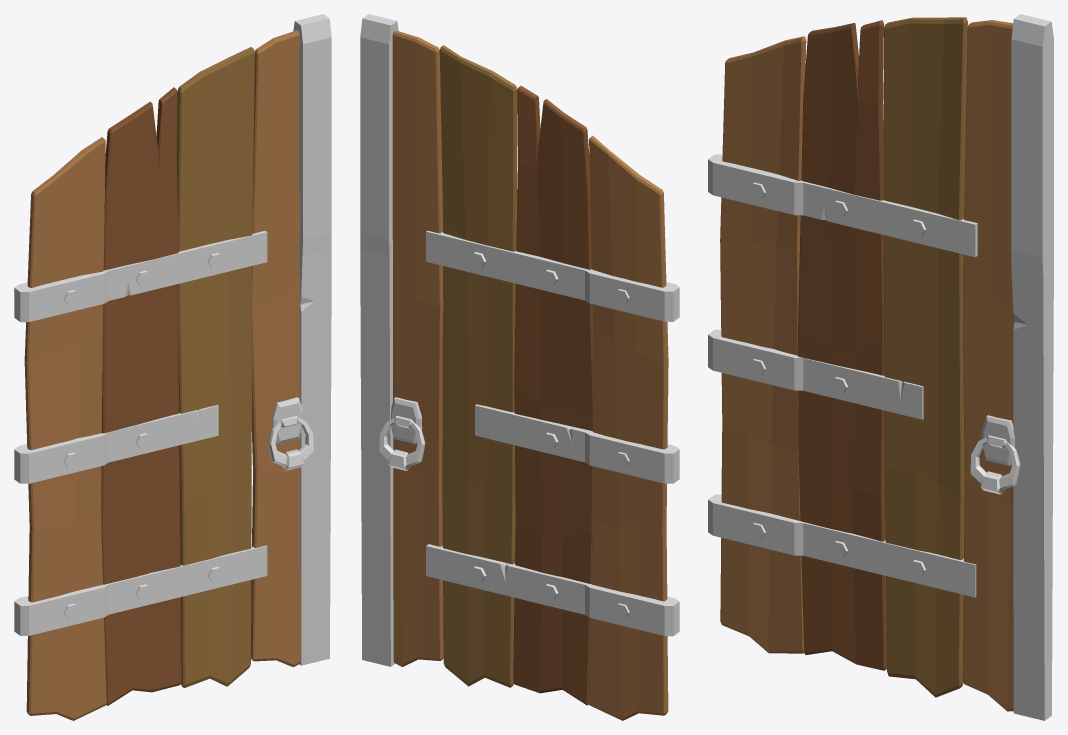
File: buitendeur.fbx
3 views of the same model, side by side, from view 1: azimuth 30°, elevation 25°; view 2: azimuth 150°, elevation 25°; view 3: azimuth 330°, elevation 25° (orthographic). The views are drawn at different scales.
Visible parts, largest first — view 1: Deur; view 2: Deur; view 3: Deur.
Part boxes in pixels (x1,y1,x2,y2): Deur: (14, 14, 331, 720); Deur: (360, 14, 679, 720); Deur: (708, 14, 1053, 720).
Size of the model in its own units: 94.13 by 187 by 12.6.
